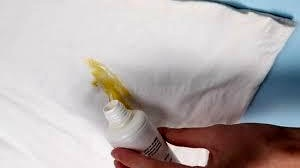mustard: (92, 65, 132, 100)
